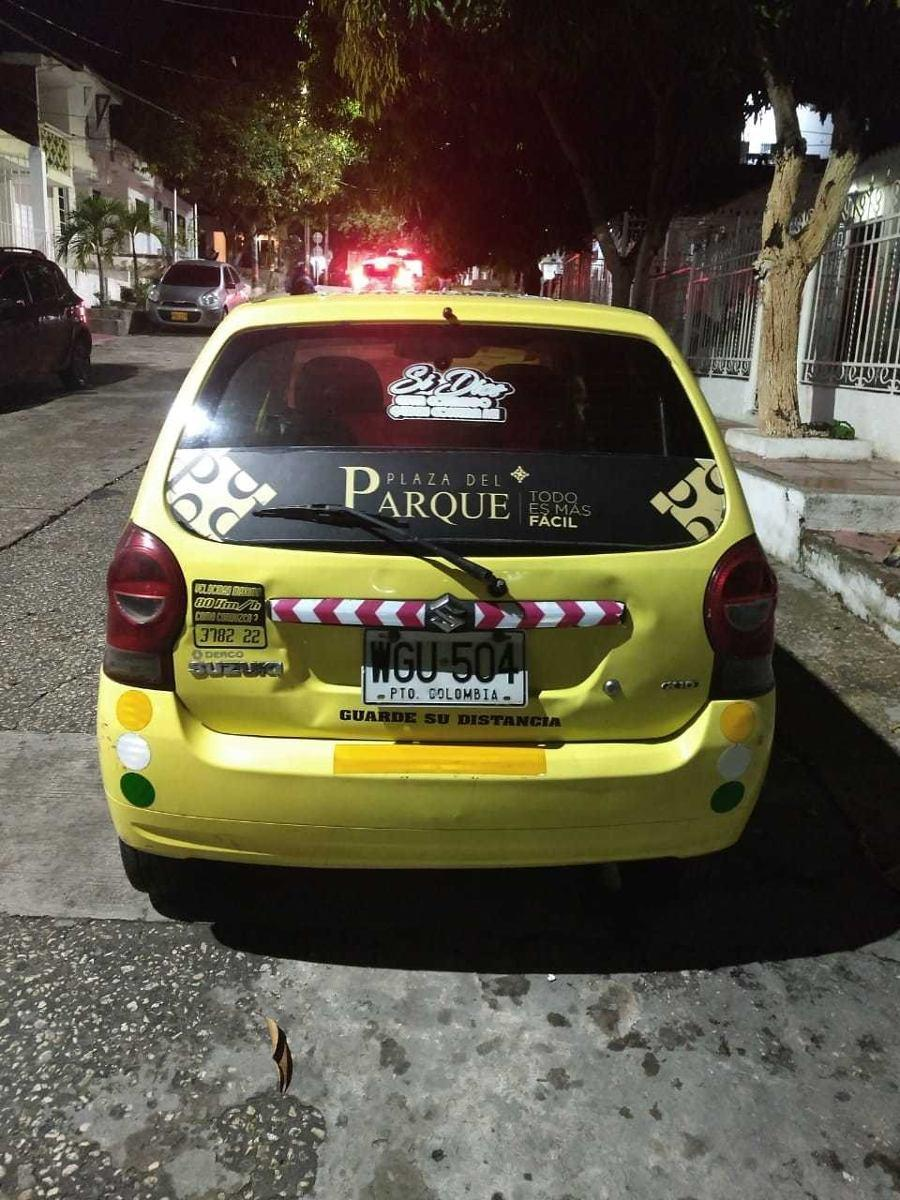taxi: (19, 273, 900, 859)
